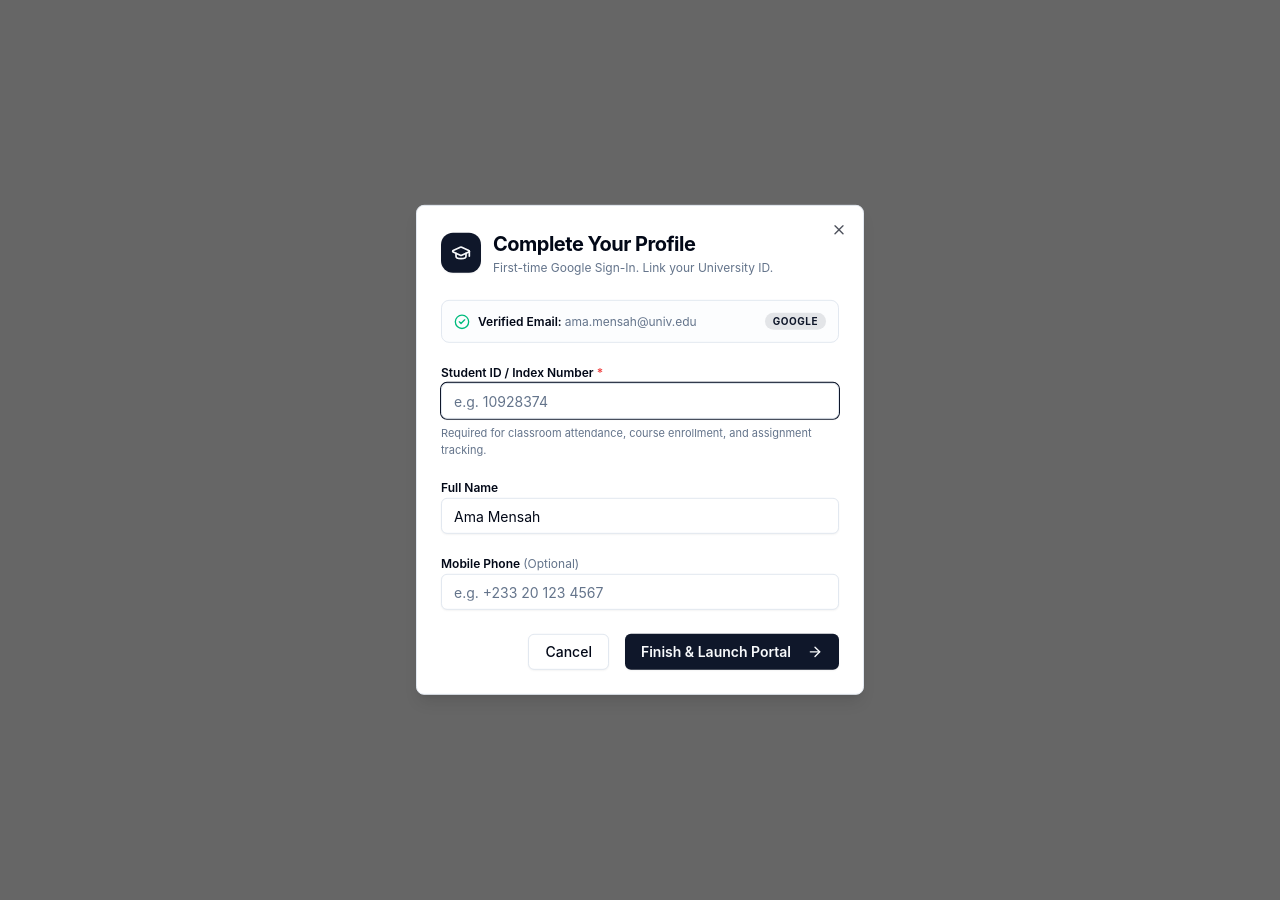
it: OAuth Components & Integration › CompleteOAuthDialog › validates student ID requirement and format
The width and height of the screenshot is (1280, 900).
Click the button "Finish & Launch Portal" at (732, 652), box x1=625 y1=634 x2=839 y2=670
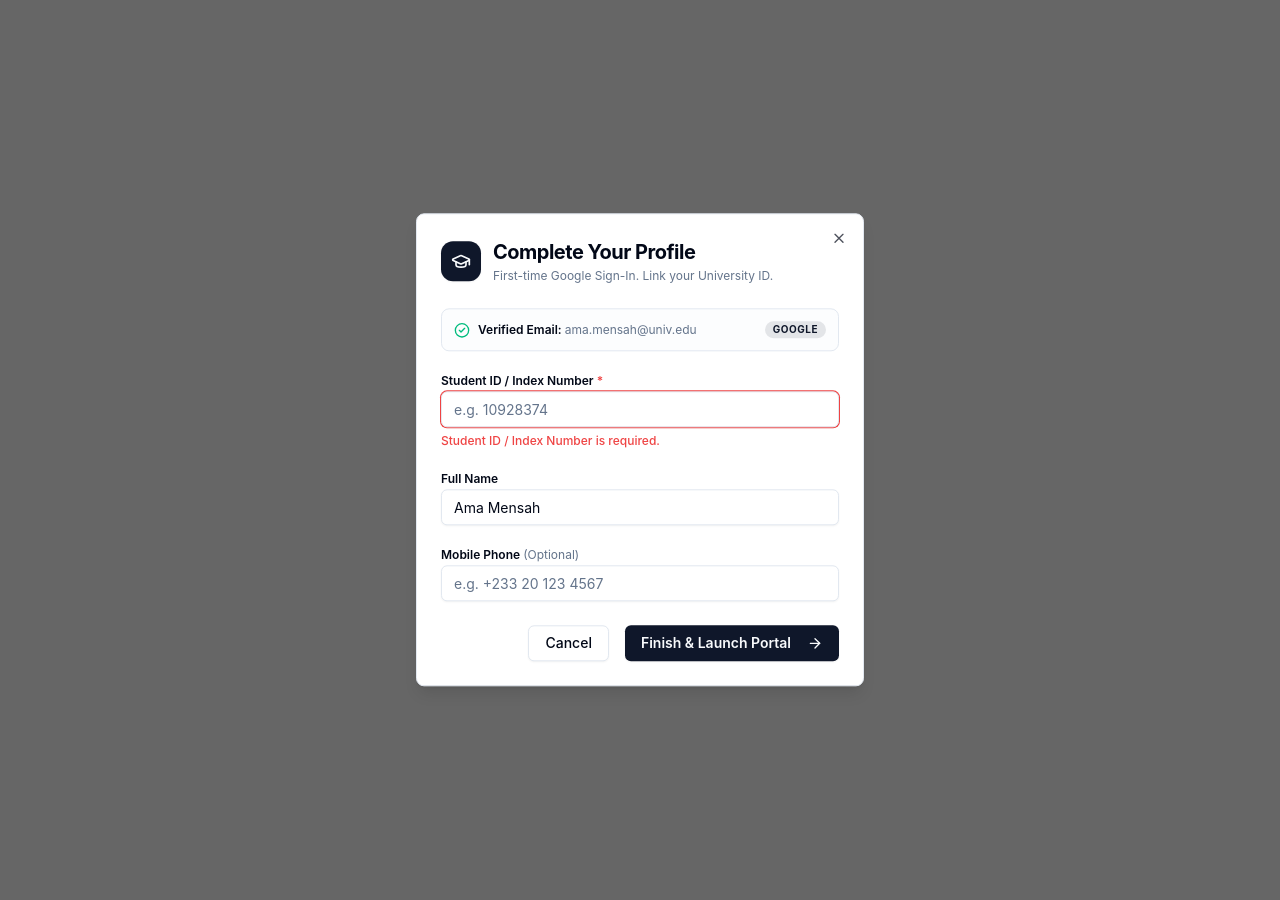
Expected: the text "Student ID / Index Number is required." is shown, x1=441 y1=434 x2=660 y2=449
Type "ab" into the field labelled "Student ID / Index Number *" at (640, 410), box x1=441 y1=392 x2=839 y2=428
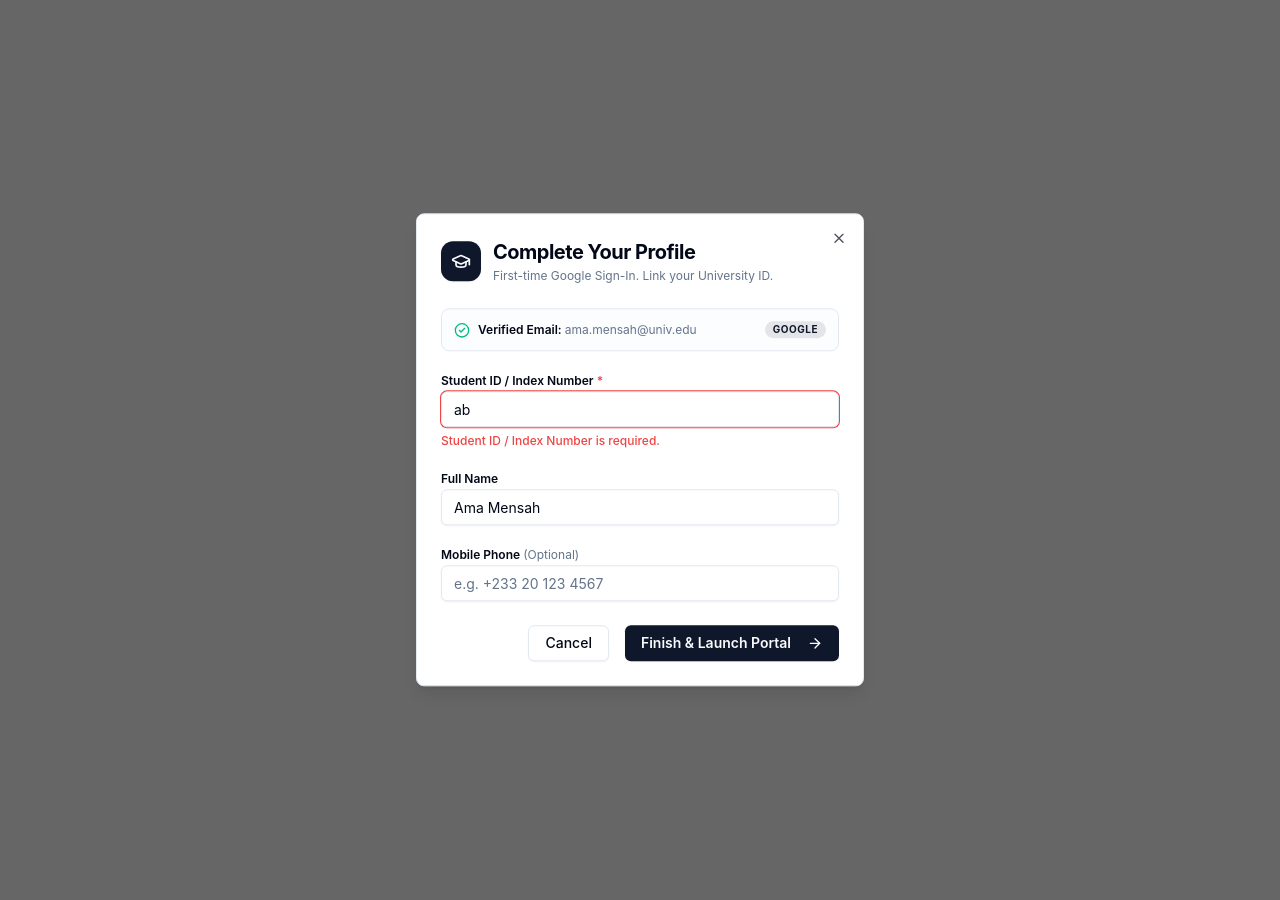
Click the button "Finish & Launch Portal" at (732, 644), box x1=625 y1=626 x2=839 y2=662
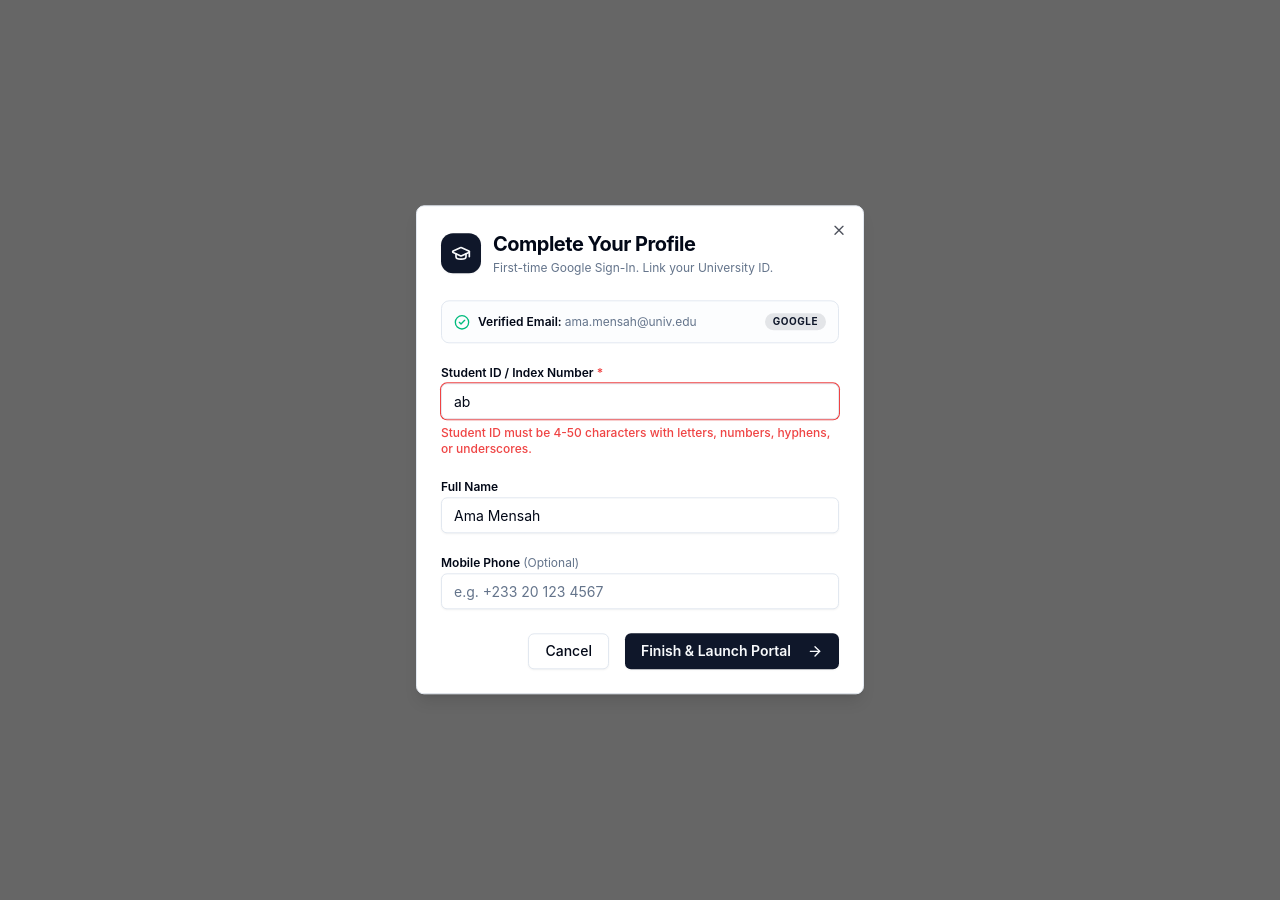
Expected: the text "Student ID must be 4-50 characters with letters, numbers, hyphens, or underscores" is shown, x1=441 y1=426 x2=830 y2=457
